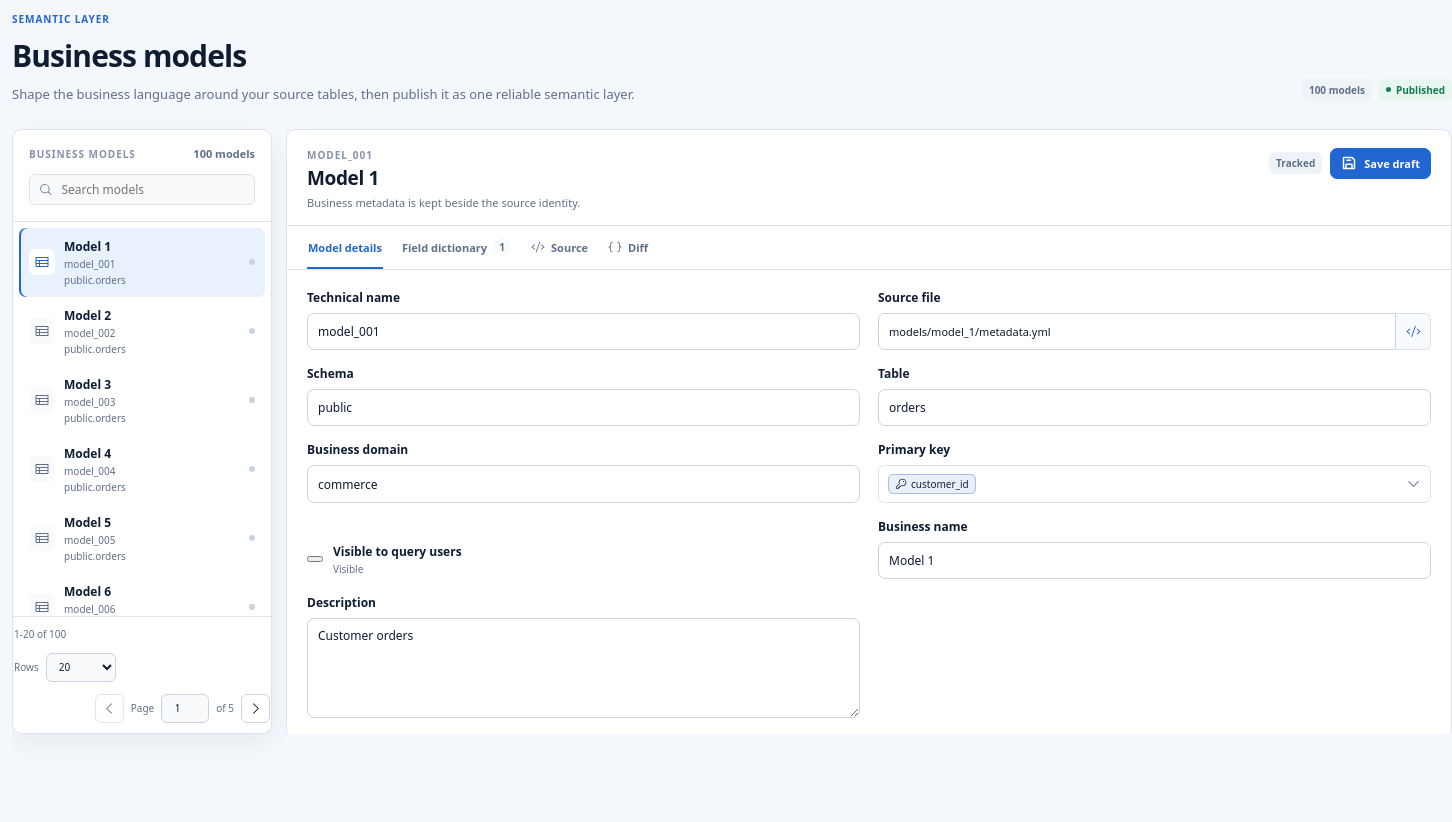
ModelEditor › bounds 100 business models without clearing the active editor
Expected: the text "1-20 of 100" is shown, x1=14 y1=627 x2=66 y2=641
Click the button named "Next page" at (256, 708), box x1=241 y1=694 x2=270 y2=723
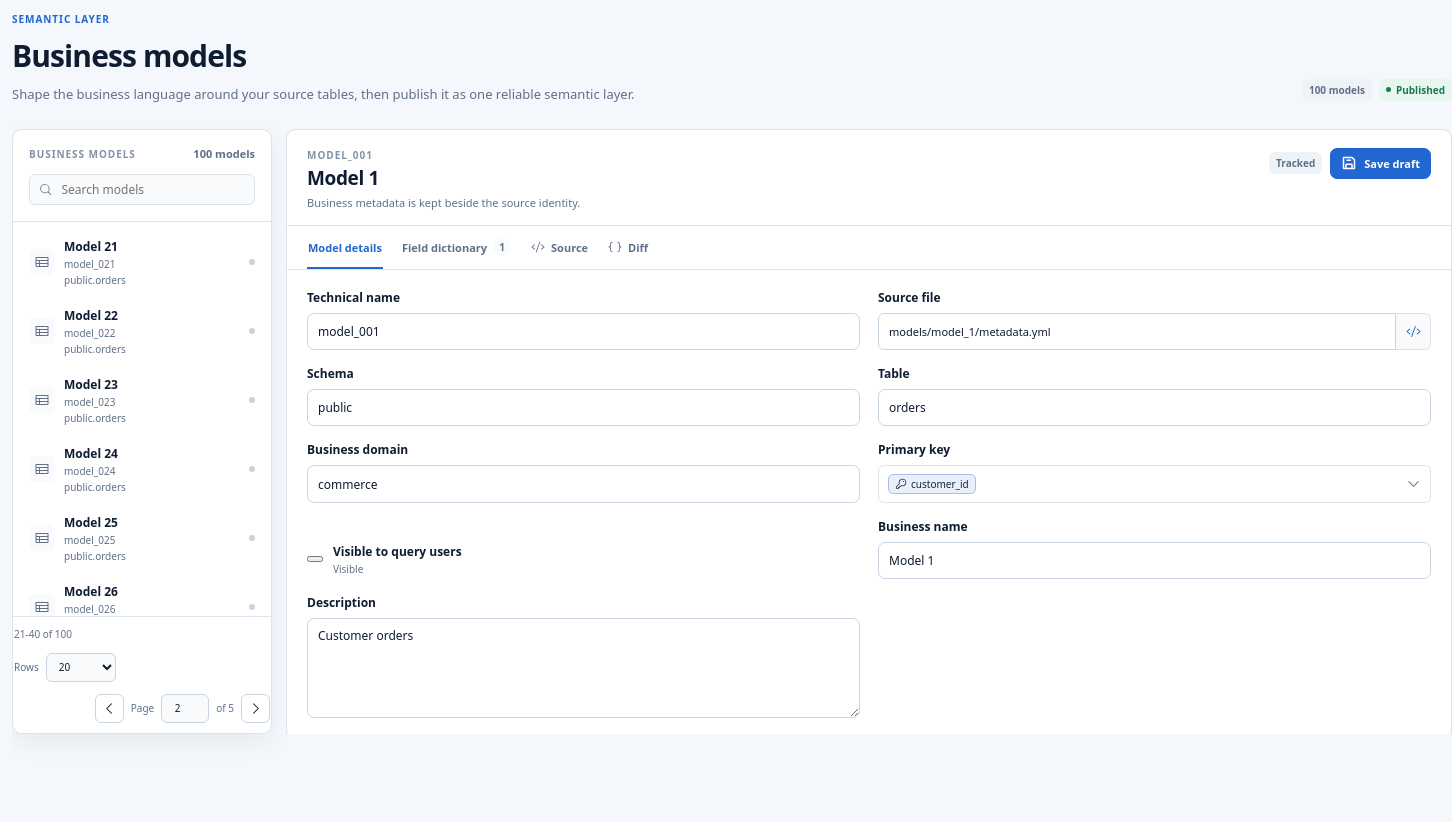
Expected: the field labelled "Business name" holds "Model 1", x1=878 y1=542 x2=1431 y2=579
Result: the text "21-40 of 100" is shown at x1=14 y1=627 x2=72 y2=641
